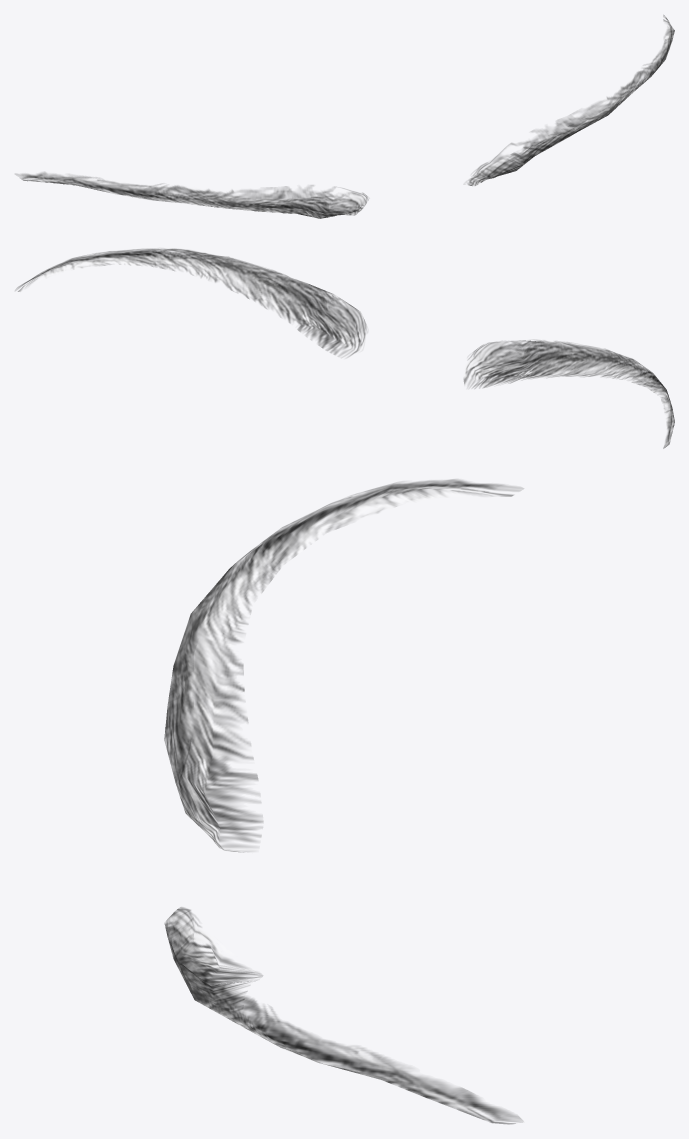
The model's file is brows_eyebrow004.gltf.
3 renders of one model, top to bottom at view 1: azimuth 30°, elevation 25°; view 2: azimuth 150°, elevation 25°; view 3: azimuth 270°, elevation 25°, orthographic. The views are drawn at different scales.
Parts seen in each view (by area): view 1: brows_eyebrow004; view 2: brows_eyebrow004; view 3: brows_eyebrow004.
Part boxes in pixels (x1,y1,x2,y2): brows_eyebrow004: (15, 15, 674, 218); brows_eyebrow004: (15, 248, 674, 448); brows_eyebrow004: (164, 479, 523, 1124).
Bounding box in the file's own units: 0.1172 × 0.0125 × 0.0282.
Materials: 1 (1 with a texture image).
